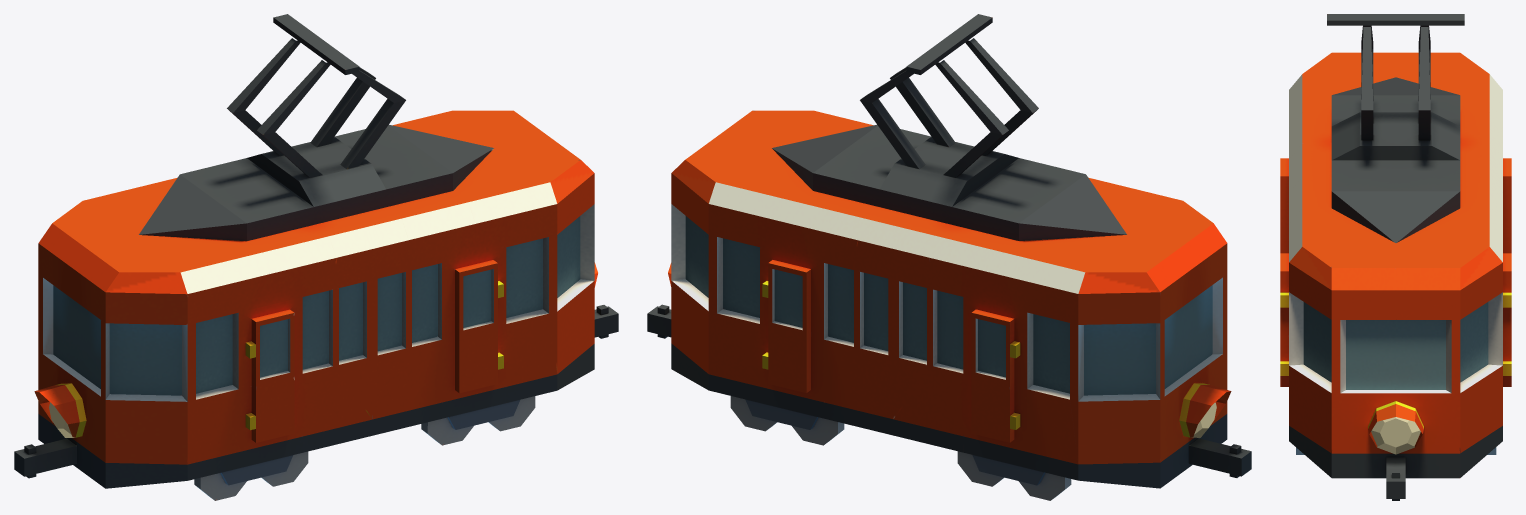
The model's file is fcb693e9-0ddc-4c39-8cc4-d1f5b4d03208.glb.
The picture shows the model from 3 angles, left to right: view 1: azimuth 30°, elevation 25°; view 2: azimuth 150°, elevation 25°; view 3: azimuth 270°, elevation 25°; orthographic projection. The views are drawn at different scales.
Parts seen in each view (by area): view 1: PUSHILIN_Tram_Cube.009; view 2: PUSHILIN_Tram_Cube.009; view 3: PUSHILIN_Tram_Cube.009.
Boxes of the visible parts, box(x1,y1,x2,y2) form: PUSHILIN_Tram_Cube.009: box(14, 14, 618, 500); PUSHILIN_Tram_Cube.009: box(647, 14, 1251, 500); PUSHILIN_Tram_Cube.009: box(1280, 14, 1511, 500).
Size of the model in its own units: 4.15 by 2.56 by 1.46.
Materials: 1 (1 with a texture image).
